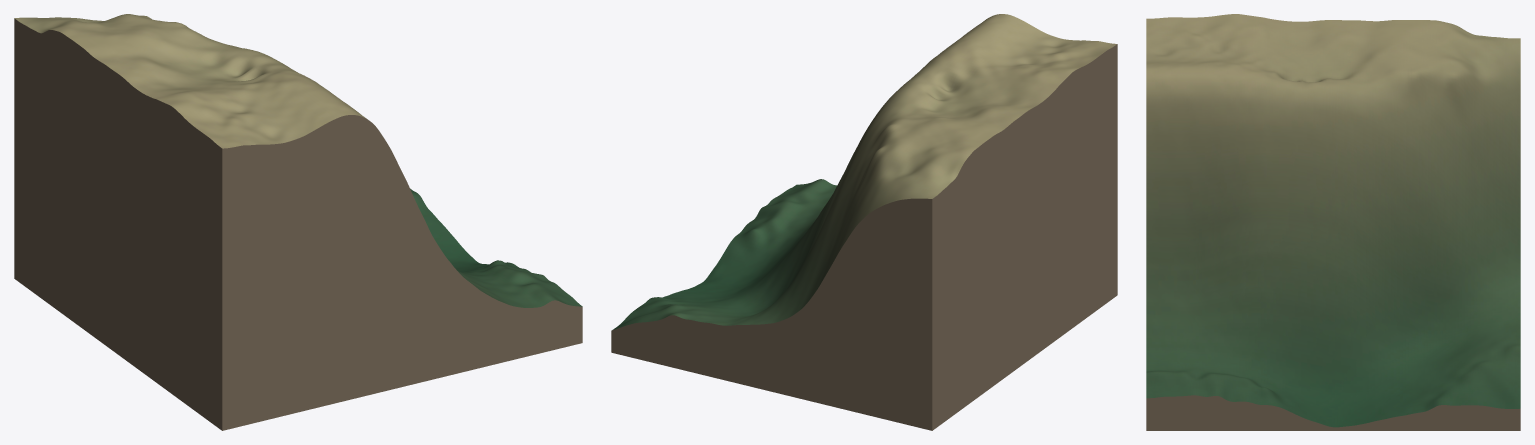
The model's file is terrain3d-angel-falls.glb.
3 views of the same model, side by side, from view 1: azimuth 30°, elevation 25°; view 2: azimuth 150°, elevation 25°; view 3: azimuth 270°, elevation 25° (orthographic). The views are drawn at different scales.
Parts seen in each view (by area): view 1: Opaque geographic crop sides, Measured elevation surface; view 2: Opaque geographic crop sides, Measured elevation surface; view 3: Measured elevation surface, Opaque geographic crop sides.
Part boxes in pixels (left/top/right/bottom): Opaque geographic crop sides: left=14, top=18, right=582, bottom=430; Measured elevation surface: left=14, top=14, right=582, bottom=307; Opaque geographic crop sides: left=611, top=44, right=1117, bottom=430; Measured elevation surface: left=612, top=14, right=1116, bottom=330; Measured elevation surface: left=1146, top=14, right=1520, bottom=427; Opaque geographic crop sides: left=1146, top=395, right=1520, bottom=430.
Size of the model in its own units: 1100 by 839 by 1100.
Materials: 2 (1 with a texture image).
